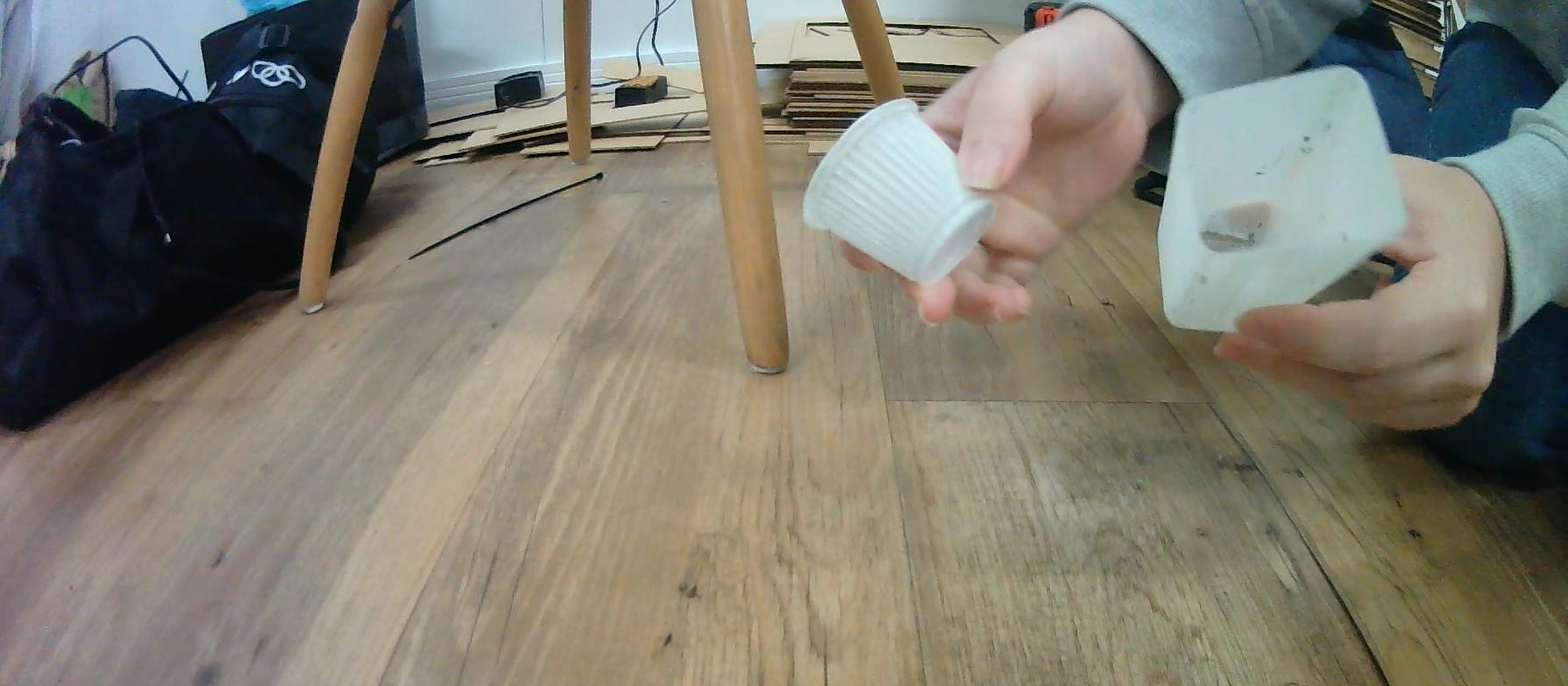erva_daninha: (1155, 63, 1404, 332)
planta: (799, 96, 997, 292)
